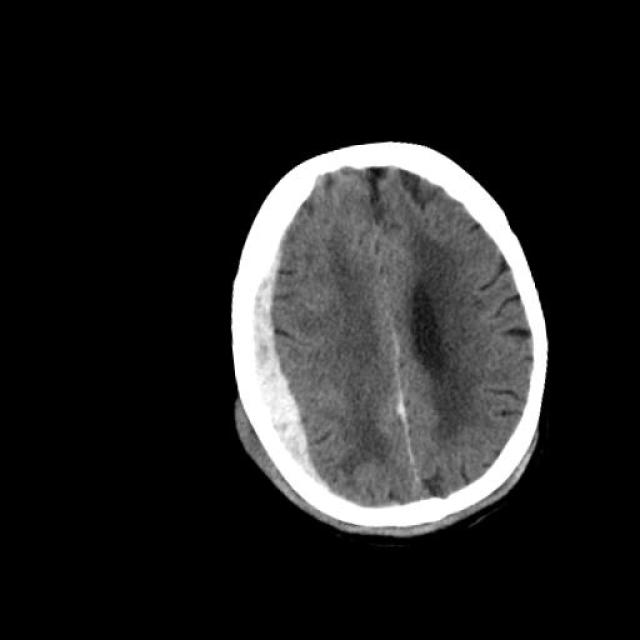Subdural: (182, 172, 366, 514)
